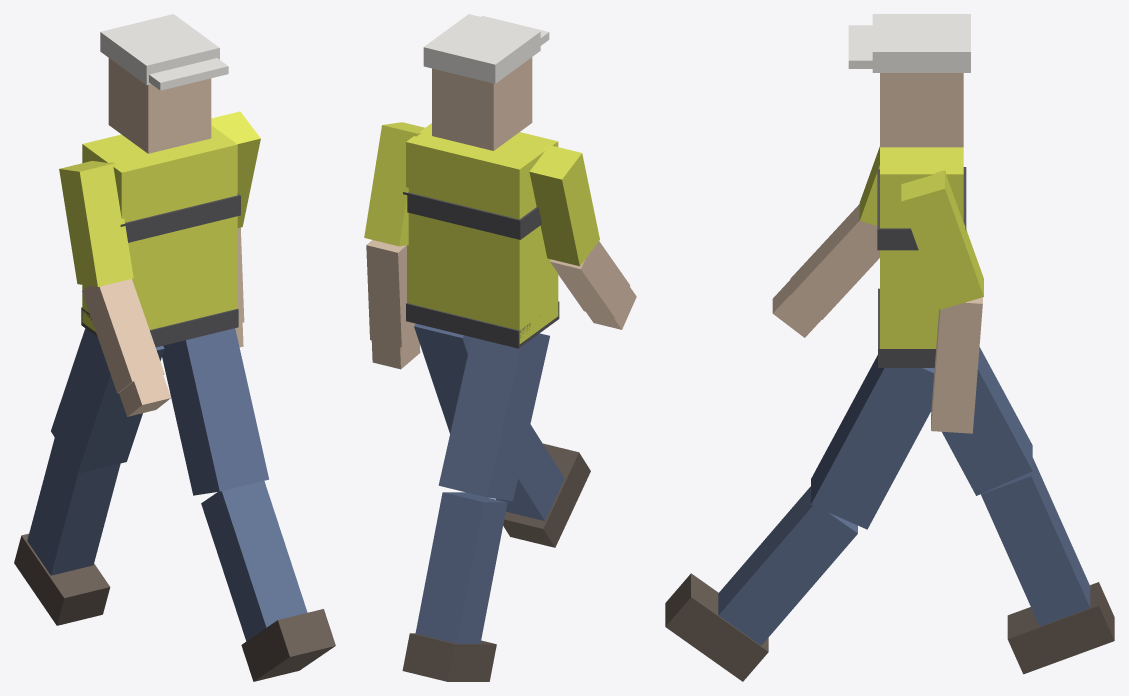
File: worker.glb
3 views of the same model, side by side, from view 1: azimuth 30°, elevation 25°; view 2: azimuth 150°, elevation 25°; view 3: azimuth 270°, elevation 25° (orthographic). The views are drawn at different scales.
Visible parts, largest first — view 1: Torso, Thigh_R, Shin_R, Shin_L, Thigh_L, UpperArm_L, Head, Forearm_L, Hat, Boot_R, Boot_L, Vest_Band (+5 smaller); view 2: Torso, Thigh_L, Shin_L, Head, UpperArm_L, Hat, UpperArm_R, Forearm_R, Boot_L, Boot_R, Forearm_L, Thigh_R (+5 smaller); view 3: Thigh_R, Shin_R, Torso, Shin_L, UpperArm_R, Thigh_L, Head, Hat, Boot_R, Forearm_L, Boot_L, Forearm_R (+6 smaller).
Boxes of the visible parts, x1=… form: Torso: x1=82, y1=125, x2=237, y2=331; Thigh_R: x1=162, y1=328, x2=269, y2=495; Shin_R: x1=201, y1=481, x2=307, y2=641; Shin_L: x1=27, y1=438, x2=120, y2=575; Thigh_L: x1=51, y1=328, x2=164, y2=473; UpperArm_L: x1=59, y1=161, x2=133, y2=286; Head: x1=108, y1=58, x2=211, y2=153; Forearm_L: x1=82, y1=279, x2=164, y2=393; Hat: x1=100, y1=14, x2=219, y2=85; Boot_R: x1=241, y1=609, x2=335, y2=681; Boot_L: x1=14, y1=533, x2=110, y2=625; Vest_Band: x1=120, y1=194, x2=240, y2=242; Torso: x1=406, y1=123, x2=558, y2=343; Thigh_L: x1=438, y1=333, x2=549, y2=501; Shin_L: x1=415, y1=492, x2=507, y2=643; Head: x1=432, y1=57, x2=532, y2=150; UpperArm_L: x1=529, y1=144, x2=599, y2=266; Hat: x1=423, y1=14, x2=540, y2=83; UpperArm_R: x1=364, y1=122, x2=424, y2=246; Forearm_R: x1=366, y1=240, x2=416, y2=347; Boot_L: x1=402, y1=633, x2=496, y2=681; Boot_R: x1=503, y1=443, x2=590, y2=547; Forearm_L: x1=550, y1=241, x2=630, y2=318; Thigh_R: x1=414, y1=323, x2=471, y2=433; Thigh_R: x1=811, y1=355, x2=934, y2=529; Shin_R: x1=718, y1=486, x2=857, y2=645; Torso: x1=880, y1=147, x2=963, y2=348; Shin_L: x1=980, y1=457, x2=1090, y2=626; UpperArm_R: x1=901, y1=170, x2=983, y2=309; Thigh_L: x1=931, y1=347, x2=1032, y2=495; Head: x1=880, y1=73, x2=963, y2=147; Hat: x1=872, y1=14, x2=970, y2=72; Boot_R: x1=665, y1=573, x2=768, y2=681; Forearm_L: x1=790, y1=204, x2=879, y2=319; Boot_L: x1=1007, y1=582, x2=1114, y2=674; Forearm_R: x1=933, y1=297, x2=982, y2=409.
Size of the model in its own units: 0.535 by 1.7 by 1.07.
